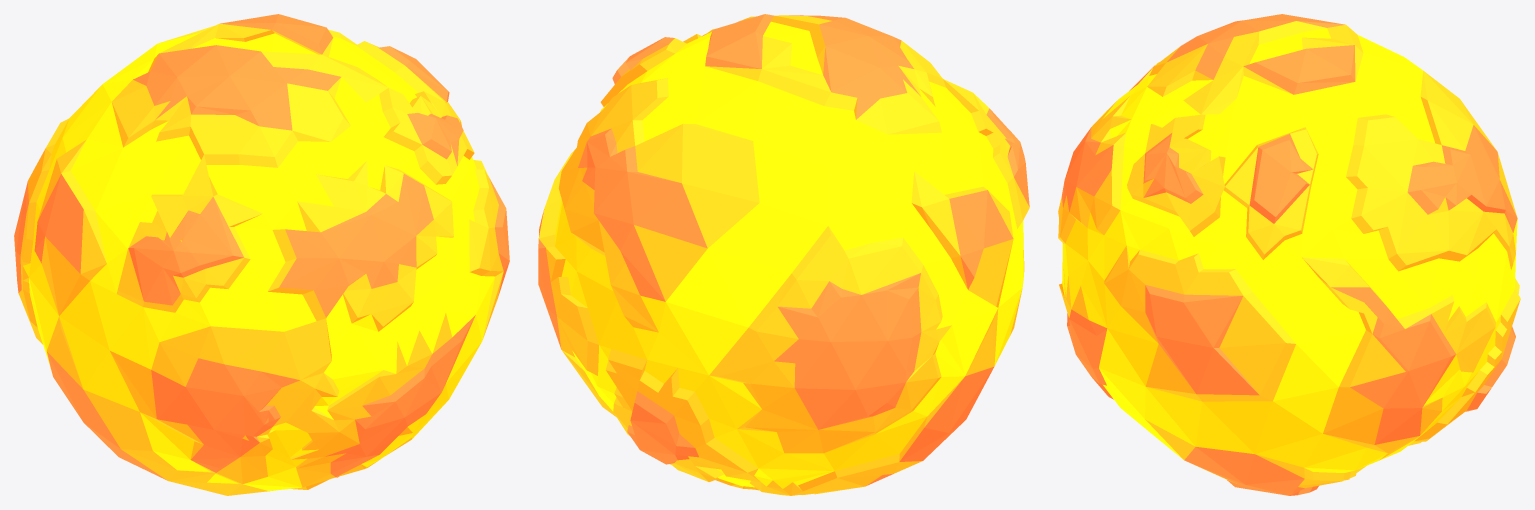
The model's file is sun.glb.
3 views of the same model, side by side, from view 1: azimuth 30°, elevation 25°; view 2: azimuth 150°, elevation 25°; view 3: azimuth 270°, elevation 25° (orthographic). The views are drawn at different scales.
Visible parts, largest first — view 1: star8; view 2: star8; view 3: star8.
Boxes of the visible parts, <box> form: star8: <box>14,14,509,495</box>; star8: <box>538,14,1029,495</box>; star8: <box>1058,14,1520,495</box>.
Bounding box in the file's own units: 8.25 × 8.47 × 8.22.
Materials: 1 (1 with a texture image).
